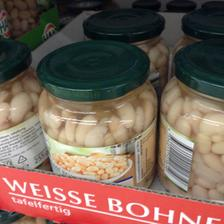Bohnen: (36, 40, 154, 188), (160, 38, 224, 202)
